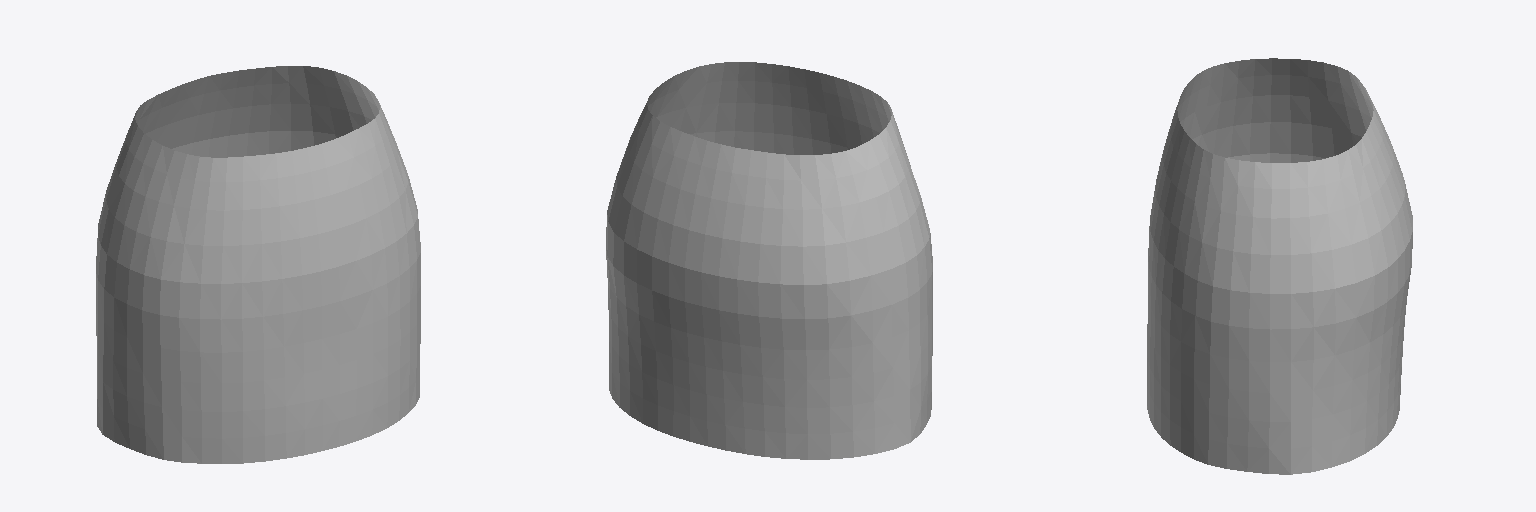
Rendered from 6_skirtshortnarrow.obj.
The picture shows the model from 3 angles: view 1: azimuth 30°, elevation 25°; view 2: azimuth 150°, elevation 25°; view 3: azimuth 270°, elevation 25°; orthographic projection.
Visible parts, largest first — view 1: skirtfront, skirtback, skirtbackright, skirtbackleft; view 2: skirtback, skirtbackleft, skirtfront, skirtbackright; view 3: skirtfront, skirtbackright, skirtbackleft, skirtback.
Boxes of the visible parts, box(x1,y1,x2,y2) form: skirtfront: box(103, 82, 420, 463); skirtback: box(143, 67, 271, 157); skirtbackright: box(269, 66, 374, 153); skirtbackleft: box(96, 95, 157, 434); skirtback: box(637, 127, 785, 458); skirtbackleft: box(780, 141, 910, 459); skirtfront: box(648, 62, 932, 441); skirtbackright: box(606, 89, 669, 423); skirtfront: box(1147, 58, 1290, 474); skirtbackright: box(1290, 139, 1397, 474); skirtbackleft: box(1290, 59, 1373, 162); skirtback: box(1362, 84, 1412, 436).
Size of the model in its own units: 13.72 by 12.98 by 10.7.